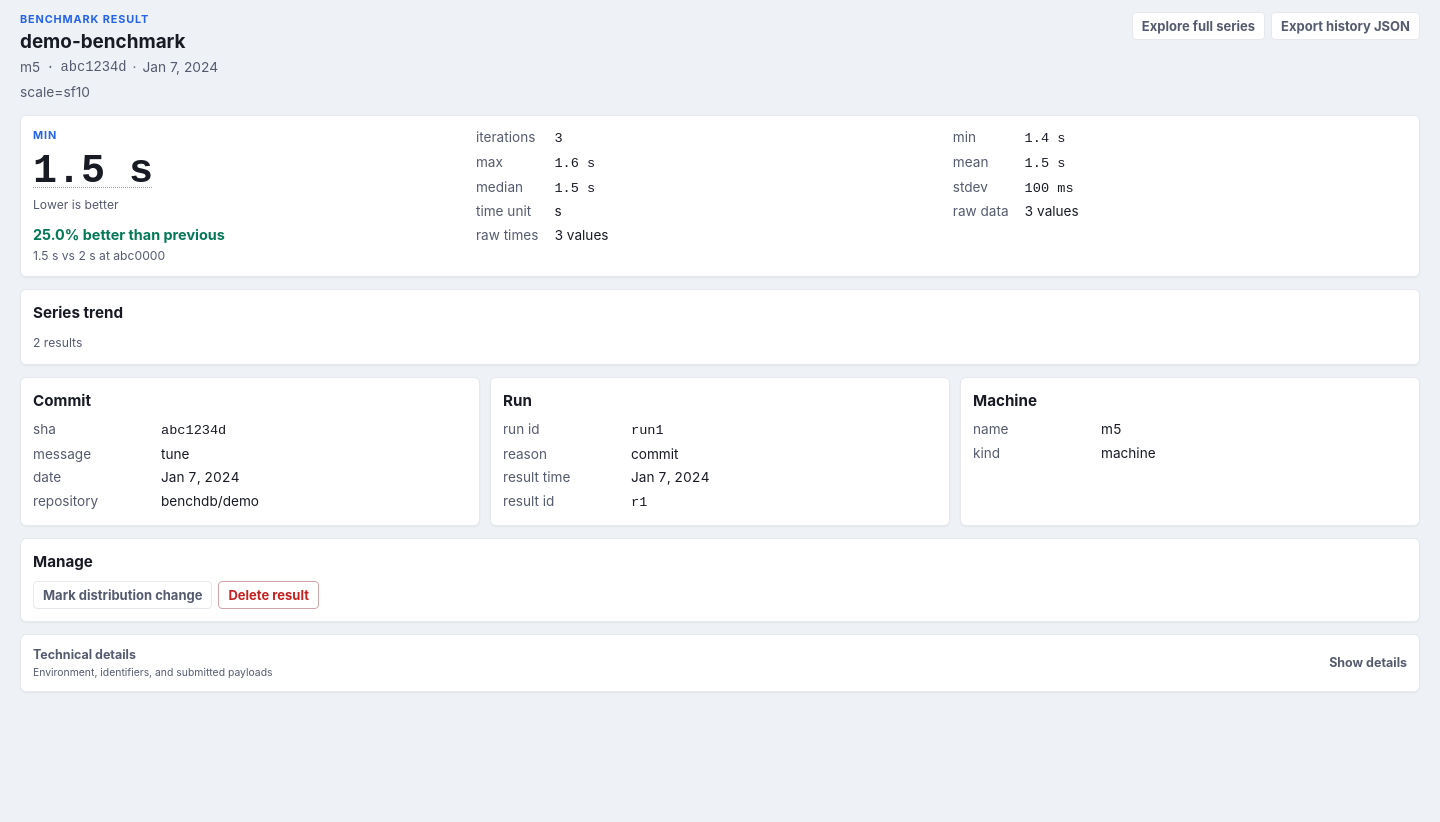
Scenario: ResultPage › marks and unmarks a result as a distribution change
Check: the heading "demo-benchmark" is shown, box [20, 30, 186, 53]
Click the button "Mark distribution change" at x=123, y=595, box [33, 581, 212, 609]
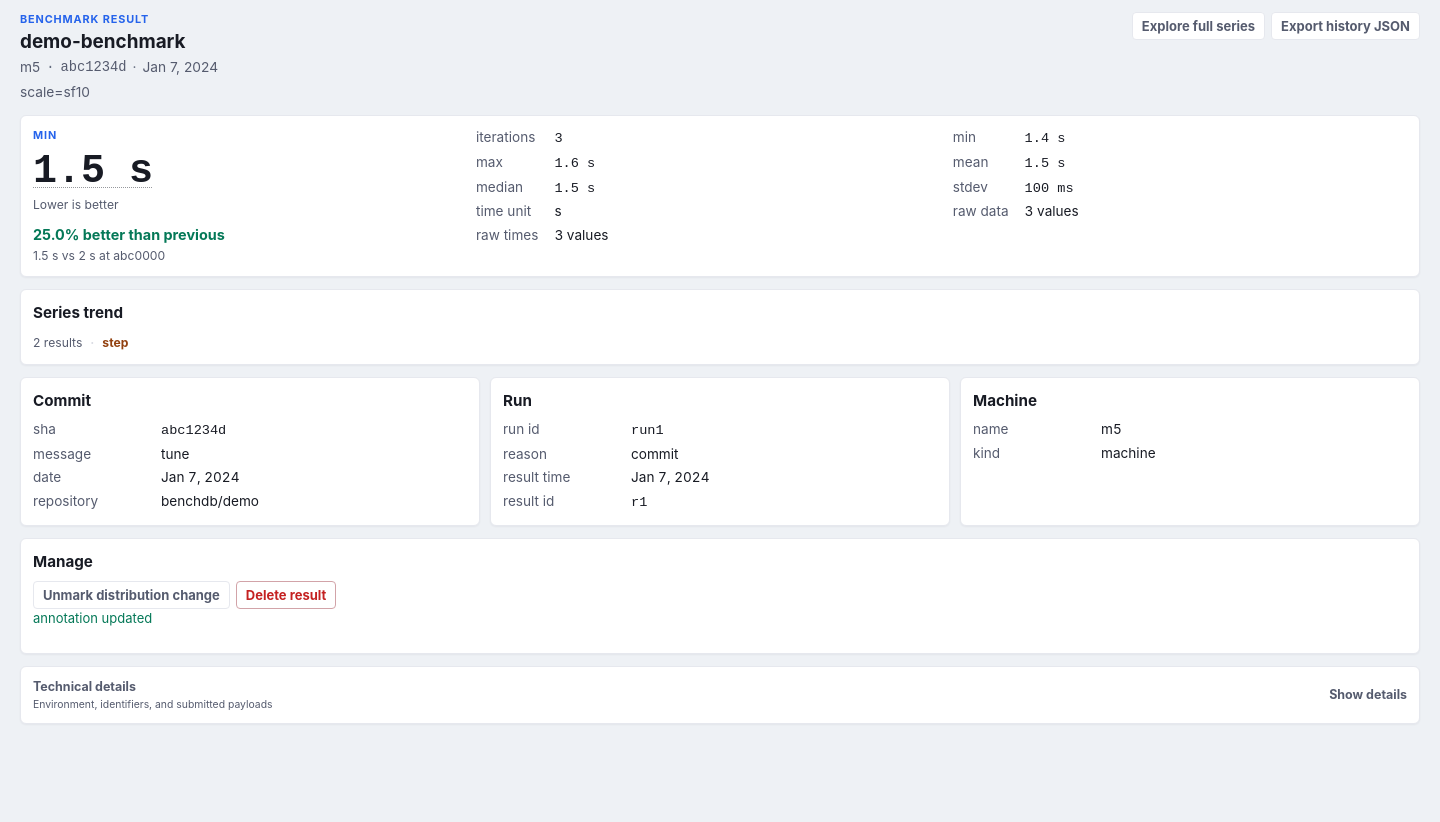
Check: the text "annotation updated" is shown, box [33, 610, 152, 626]
Check: the button "Unmark distribution change" is shown
Check: the text "step" is shown, box [90, 334, 128, 352]
Click the button "Unmark distribution change" at x=131, y=595, box [33, 581, 230, 609]
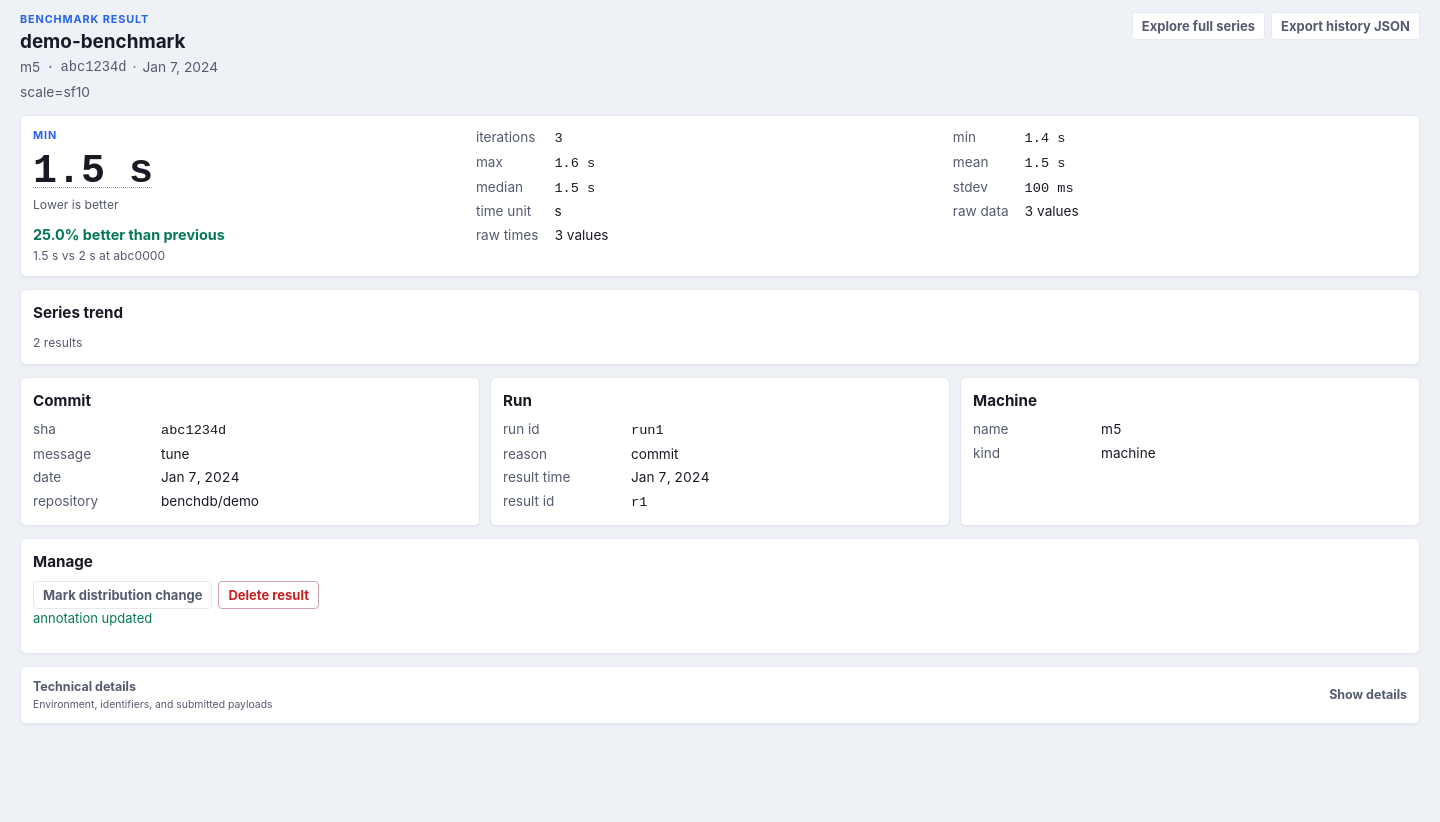
Check: the button "Mark distribution change" is shown, box [33, 581, 212, 609]
Check: the text with class "flag" is gone
